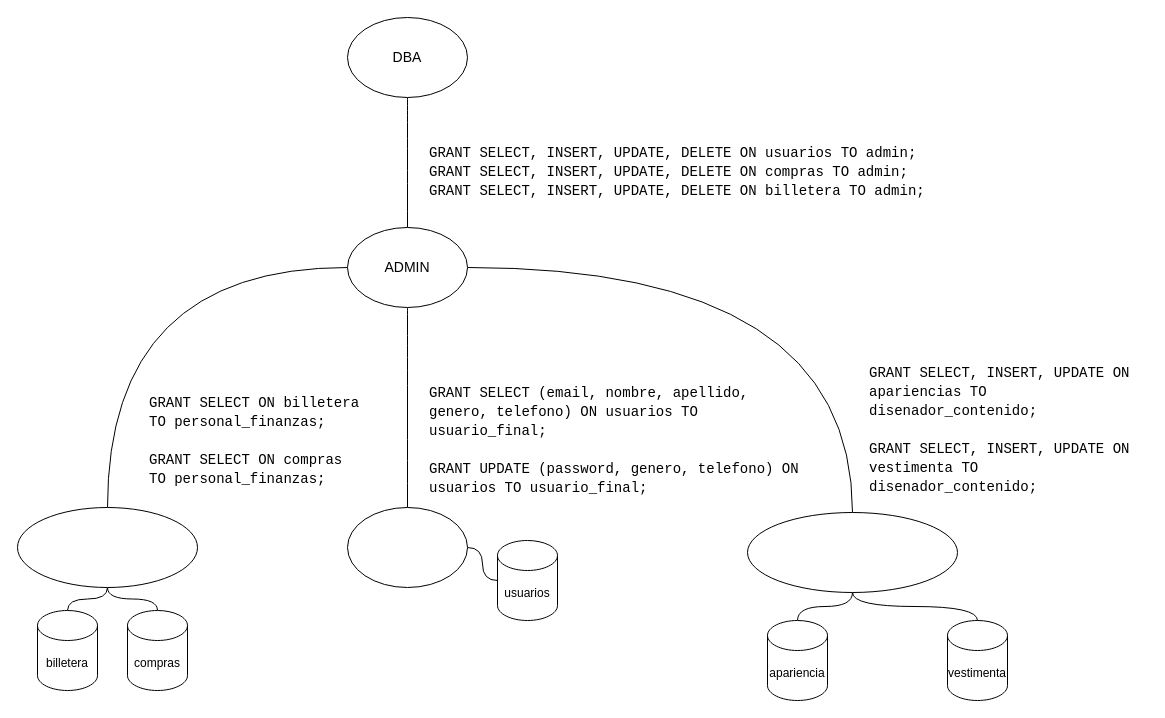
The diagram is 1165 pixels wide and 718 high, and some of its shapes have lost their labels. Here are the shapes that lost their labels. From the top down, the box of each, then its label:
(16, 506, 198, 588): PERSONAL_FINANZAS
(346, 506, 468, 588): USUARIO_FINAL
(746, 512, 958, 592): DISEÑADOR_CONTENIDO
